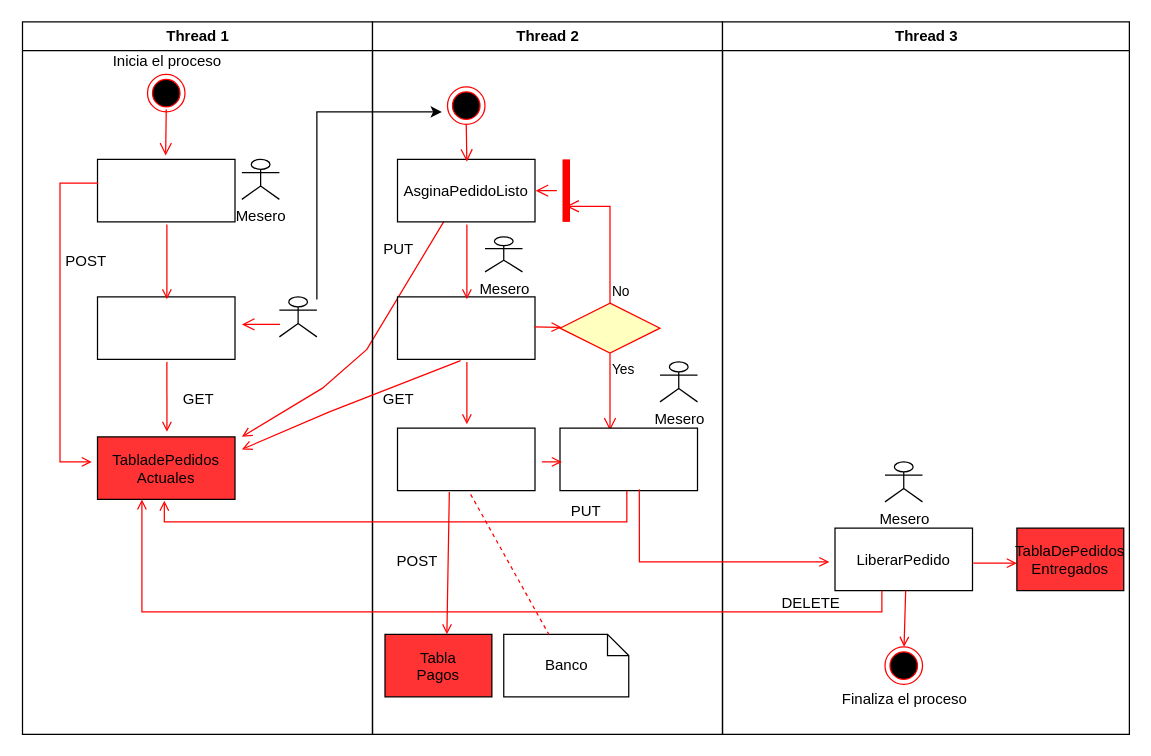
This 1151x756 diagram has some shape labels left out. Here are the shapes that lost their labels. From the top down, the centre of each, then its label:
At pixel 165 190: "GuardarPedido".
At pixel 165 327: "VerPedidosActuales".
At pixel 297 316: "Jefe de cocina".
At pixel 465 327: "ConsultaPedido".
At pixel 609 327: "Verificación".
At pixel 465 459: "Facturación".
At pixel 628 459: "PedidoEnEntrega".
